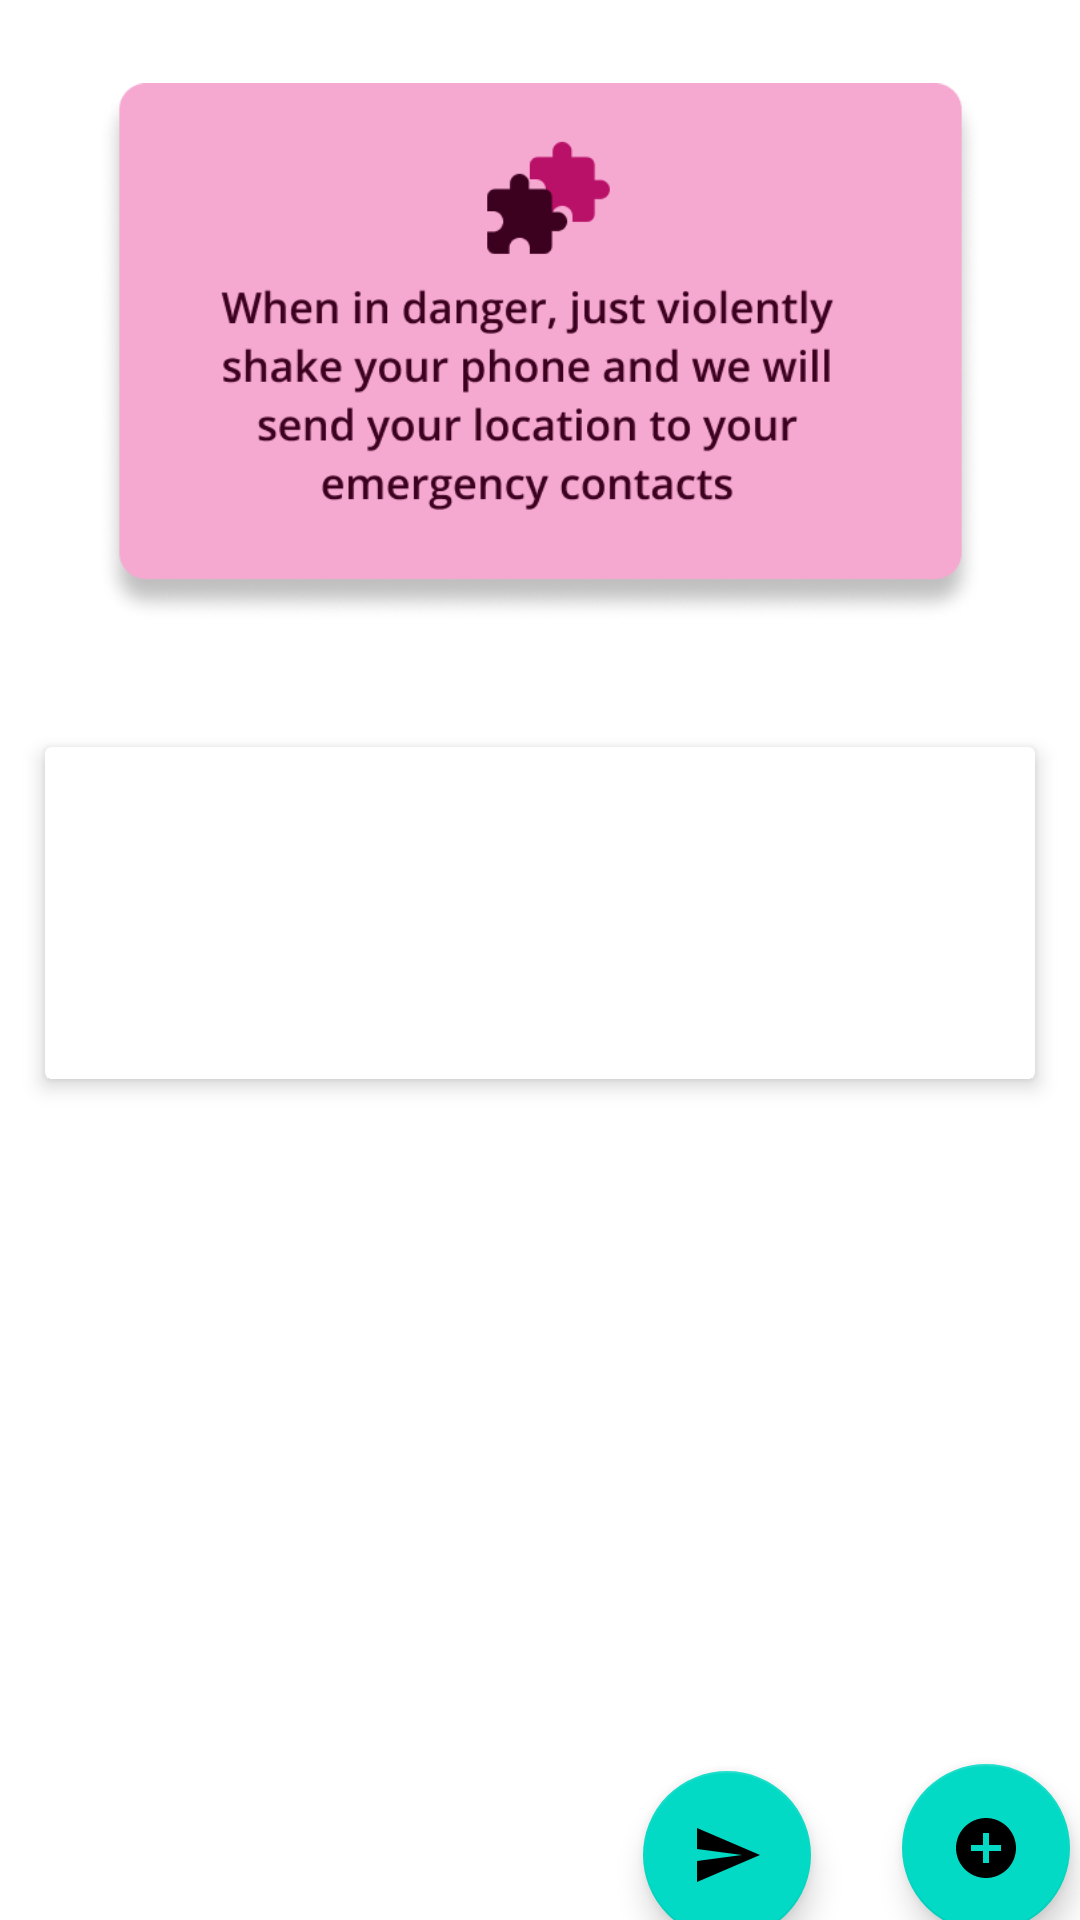

Named icons in this screenshot (1080*1920) and their centers, [x,y]:
add circle: [986,1842]
